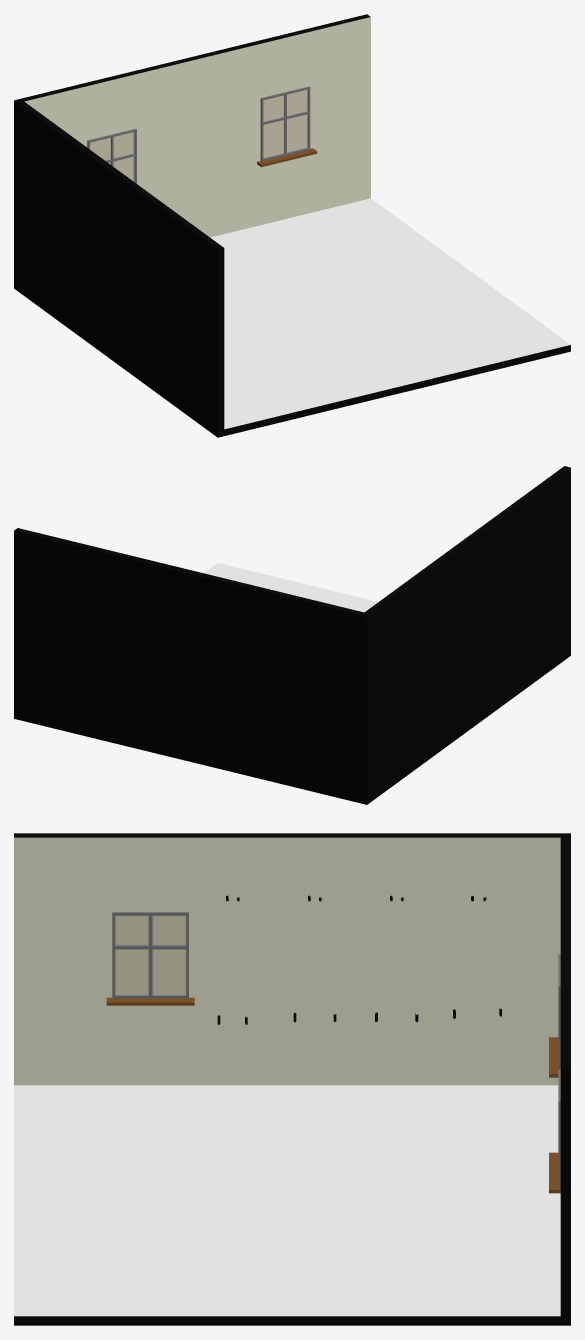
File: Room.fbx
3 renders of one model, top to bottom at view 1: azimuth 30°, elevation 25°; view 2: azimuth 150°, elevation 25°; view 3: azimuth 270°, elevation 25°, orthographic. The views are drawn at different scales.
Parts seen in each view (by area): view 1: room.002; view 2: room.002; view 3: room.002.
Part boxes in pixels (x1,y1,x2,y2): room.002: (14, 14, 570, 437); room.002: (14, 466, 570, 804); room.002: (14, 833, 570, 1325).
Size of the model in its own units: 2037 by 1037 by 2037.
Materials: 1 (1 with a texture image).
